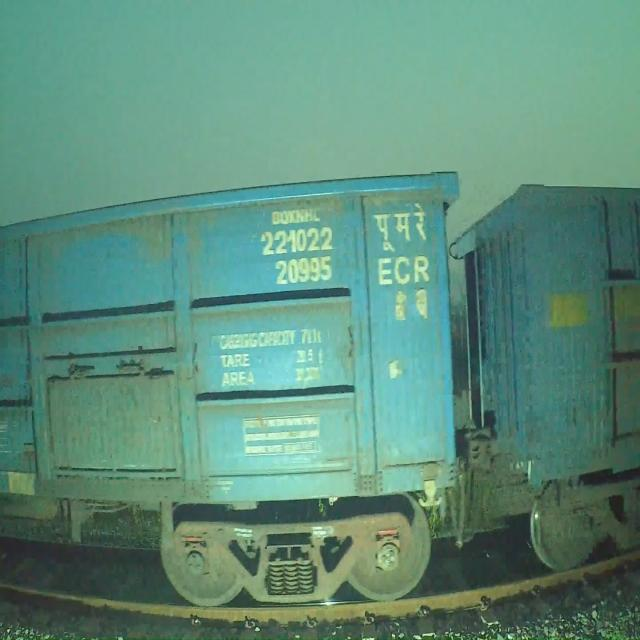WAgon-uic: (0, 169, 461, 605), (454, 183, 639, 573)
uic: (258, 225, 337, 288)
